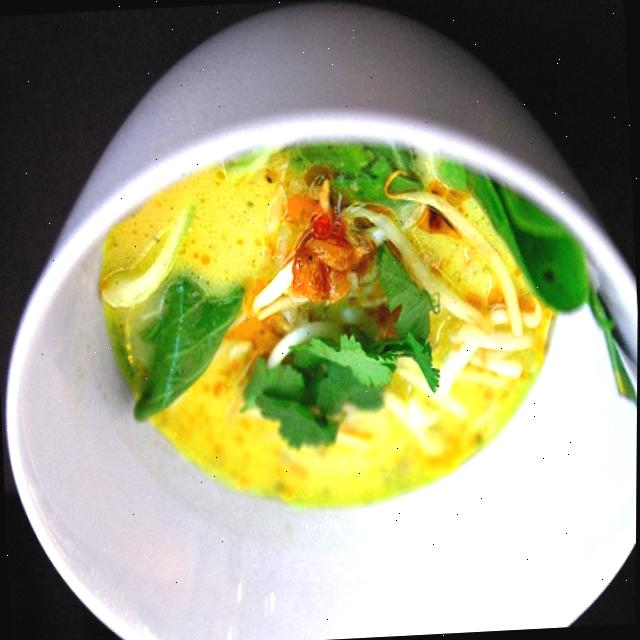汤锅炖物: (0, 79, 640, 640)
